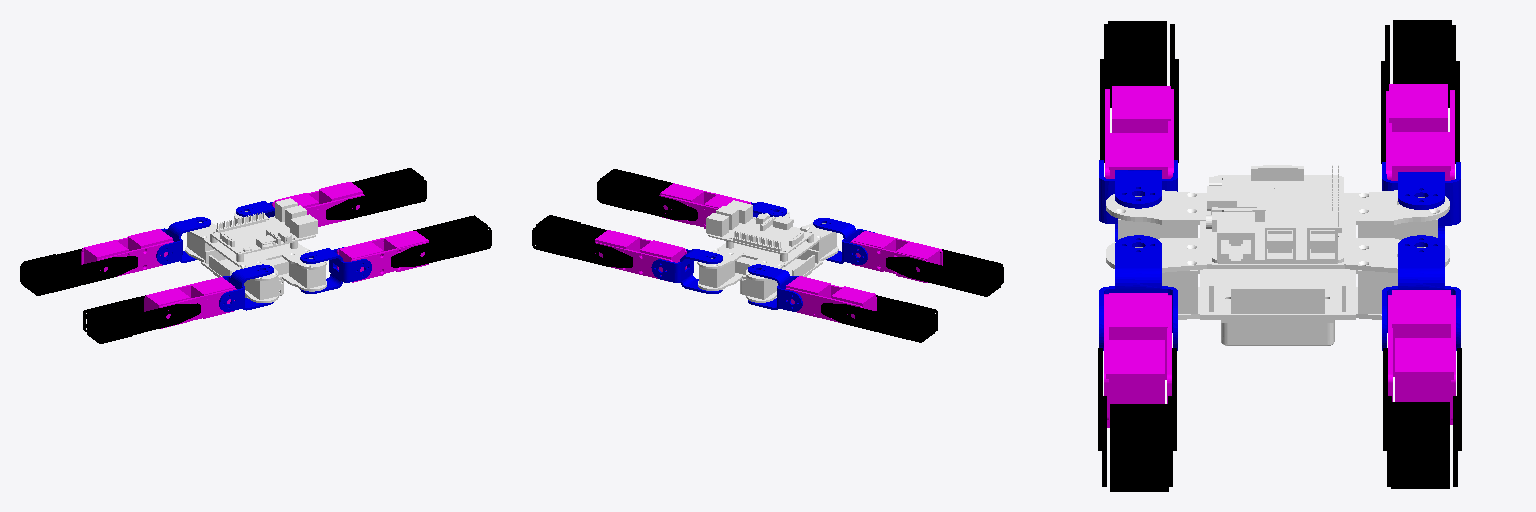
URDF robot description (ads-mt):
<?xml version="1.0" ?>
<robot name="ads-mt">

    <!-- Base Link -->
    <link name="body">
        <visual>
            <geometry>
                <mesh filename="package://adsmt_description/urdf/designs/body.stl" scale=" 0.01 0.01 0.01"/>
            </geometry>
            <material name = 'body'>
                <color rgba='1 1 1 1'/>
            </material>

            <collision>
                <geometry>
                    <mesh filename="package://adsmt_description/urdf/designs/body.stl" scale=" 0.01 0.01 0.01"/>
                </geometry>
            </collision>

        </visual>
    </link>

    <!-- Leg 1 -->
    <!-- Joints and Links -->
    <joint name="joint_1" type="revolute">
        <parent link="body"/>
        <child link="joint_1_link"/>
        <origin xyz="-0.265 -0.60 0.0" rpy="0 0 -1.5708"/>
        <axis xyz="0 0 1"/>
        <limit lower="-3.1415" upper="3.1415" effort="10" velocity="1.0"/>
    </joint>
    <link name="joint_1_link">
        <visual>
            <geometry>
                <mesh filename="package://adsmt_description/urdf/designs/double_u.stl" scale=" 0.01 0.01 0.01"/>

            </geometry>
                <material name = 'u joints 1'>
                    <color rgba='0 0 1 1'/>
                </material>

              <collision>
                <geometry>
                    <mesh filename="package://adsmt_description/urdf/designs/double_u.stl" scale=" 0.01 0.01 0.01"/>
                </geometry>
            </collision>
        </visual>
    </link>


    <!-- Thigh 1 -->
    <joint name="joint_1_1" type="revolute">
        <parent link="joint_1_link"/>
        <child link="joint_1_thigh"/>
        <origin xyz="-0.0 -0.46 0.0" rpy="3.1415 0 0"/>
        <axis xyz="1 0 0"/>
        <limit lower="-3.1415" upper="3.1415" effort="10" velocity="1.0"/>
    </joint>
    <link name="joint_1_thigh">
        <visual>
            <geometry>
                <mesh filename="package://adsmt_description/urdf/designs/thigh.stl" scale=" 0.01 0.01 0.01"/>

            </geometry>
                <material name = 'u joints t'>
                    <color rgba='1 0 1 1'/>
                </material>
            <collision>
                <geometry>
                    <mesh filename="package://adsmt_description/urdf/designs/thigh.stl" scale=" 0.01 0.01 0.01"/>
                </geometry>
            </collision>
        </visual>
    </link>

    <!-- Shin 1 -->
    <joint name="joint_1_1_1" type="revolute">
        <parent link="joint_1_thigh"/>
        <child link="joint_1_shin"/>
        <origin xyz="-0.0 0.65 0.0" rpy="3.1415 0 0"/>
        <axis xyz="1 0 0"/>
        <limit lower="-3.1415" upper="3.1415" effort="10" velocity="1.0"/>
    </joint>
    <link name="joint_1_shin">
        <visual>
            <geometry>
                <mesh filename="package://adsmt_description/urdf/designs/shin.stl" scale=" 0.01 0.01 0.01"/>

            </geometry>
                <material name = 'u joints 7'>
                    <color rgba='0 0 0 1'/>
                </material>
            <collision>
                <geometry>
                    <mesh filename="package://adsmt_description/urdf/designs/shin.stl" scale=" 0.01 0.01 0.01"/>
                </geometry>
            </collision>
        </visual>
    </link>

    <!-- /Leg 1 -->

    <!-- Leg 2 -->
    <joint name="joint_2" type="revolute">
        <parent link="body"/>
        <child link="joint_2_link"/>
        <origin xyz="-0.25 0.6 0.0" rpy="0 0 1.5708"/>
        <axis xyz="0 0 1"/>
        <limit lower="-3.1415" upper="3.1415" effort="10" velocity="1.0"/>
    </joint>
    <link name="joint_2_link">
        <visual>
            <geometry>
                <mesh filename="package://adsmt_description/urdf/designs/double_u_r.stl" scale=" 0.01 0.01 0.01"/>

            </geometry>

            <collision>
                <geometry>
                    <mesh filename="package://adsmt_description/urdf/designs/double_u_r.stl" scale=" 0.01 0.01 0.01"/>
                </geometry>
            </collision>

            <material name = 'u joints 2'>
                    <color rgba='0 0 1 1'/>
                </material>
        </visual>
    </link>

    <!-- Thigh 2 -->
    <joint name="joint_2_1" type="revolute">
        <parent link="joint_2_link"/>
        <child link="joint_2_thigh"/>
        <origin xyz="-0.0 0.46 0.0" rpy="0 0 0"/>
        <axis xyz="1 0 0"/>
        <limit lower="-3.1415" upper="3.1415" effort="10" velocity="1.0"/>
    </joint>
    <link name="joint_2_thigh">
        <visual>
            <geometry>
                <mesh filename="package://adsmt_description/urdf/designs/thigh.stl" scale=" 0.01 0.01 0.01"/>

            </geometry>
                <material name = 'u joints t'>
                    <color rgba='1 0 1 1'/>
                </material>
            <collision>
                <geometry>
                    <mesh filename="package://adsmt_description/urdf/designs/thigh.stl" scale=" 0.01 0.01 0.01"/>
                </geometry>
            </collision>
        </visual>
    </link>


    <!-- Shin 2 -->
    <joint name="joint_2_1_1" type="revolute">
        <parent link="joint_2_thigh"/>
        <child link="joint_2_shin"/>
        <origin xyz="-0.0 0.65 0.0" rpy="3.1415 0 0"/>
        <axis xyz="1 0 0"/>
        <limit lower="-3.1415" upper="3.1415" effort="10" velocity="1.0"/>
    </joint>
    <link name="joint_2_shin">
        <visual>
            <geometry>
                <mesh filename="package://adsmt_description/urdf/designs/shin.stl" scale=" 0.01 0.01 0.01"/>

            </geometry>
            <collision>
                <geometry>
                    <mesh filename="package://adsmt_description/urdf/designs/shin.stl" scale=" 0.01 0.01 0.01"/>
                </geometry>
            </collision>
                <material name = 'u joints 7'>
                    <color rgba='0 0 0 1'/>
                </material>
        </visual>
    </link>
    <!-- /Leg 2-->

    <!-- Leg 3 -->
    <joint name="joint_3" type="revolute">
        <parent link="body"/>
        <child link="joint_3_link"/>
        <origin xyz="0.25 -0.60 0.0" rpy="0 0 1.5708"/>
        <axis xyz="0 0 1"/>
        <limit lower="-3.1415" upper="3.1415" effort="10" velocity="1.0"/>
    </joint>
    <link name="joint_3_link">
        <visual>
            <geometry>
                <mesh filename="package://adsmt_description/urdf/designs/double_u.stl" scale=" 0.01 0.01 0.01"/>

            </geometry>
            <collision>
                <geometry>
                    <mesh filename="package://adsmt_description/urdf/designs/double_u.stl" scale=" 0.01 0.01 0.01"/>
                </geometry>
            </collision>
             <material name = 'u joints 3'>
                    <color rgba='0 0 1 1'/>
                </material>
        </visual>
    </link>

    <!-- Thigh 3 -->
    <joint name="joint_3_1" type="revolute">
        <parent link="joint_3_link"/>
        <child link="joint_3_thigh"/>
        <origin xyz="-0.0 -0.46 0.0" rpy="3.1415 0 0"/>
        <axis xyz="1 0 0"/>
        <limit lower="-3.1415" upper="3.1415" effort="10" velocity="1.0"/>
    </joint>
    <link name="joint_3_thigh">
        <visual>
            <geometry>
                <mesh filename="package://adsmt_description/urdf/designs/thigh.stl" scale=" 0.01 0.01 0.01"/>

            </geometry>
            <collision>
                <geometry>
                    <mesh filename="package://adsmt_description/urdf/designs/thigh.stl" scale=" 0.01 0.01 0.01"/>
                </geometry>
            </collision>
                <material name = 'u joints t'>
                    <color rgba='1 0 1 1'/>
                </material>
        </visual>
    </link>


    <!-- Shin 3 -->
    <joint name="joint_3_1_1" type="revolute">
        <parent link="joint_3_thigh"/>
        <child link="joint_3_shin"/>
        <origin xyz="-0.0 0.65 0.0" rpy="3.1415 0 0"/>
        <axis xyz="1 0 0"/>
        <limit lower="-3.1415" upper="3.1415" effort="10" velocity="1.0"/>
    </joint>
    <link name="joint_3_shin">
        <visual>
            <geometry>
                <mesh filename="package://adsmt_description/urdf/designs/shin.stl" scale=" 0.01 0.01 0.01"/>

            </geometry>
            <collision>
                <geometry>
                    <mesh filename="package://adsmt_description/urdf/designs/shin.stl" scale=" 0.01 0.01 0.01"/>
                </geometry>
            </collision>
                <material name = 'u joints 7'>
                    <color rgba='0 0 0 1'/>
                </material>
        </visual>
    </link>
    <!-- /Leg 3-->

    <!-- Leg 4 -->
    <joint name="joint_4" type="revolute">
        <parent link="body"/>
        <child link="joint_4_link"/>
        <origin xyz="0.25 0.6 0.0" rpy="0 0 -1.5708"/>
        <axis xyz="0 0 1"/>
        <limit lower="-3.1415" upper="3.1415" effort="10" velocity="1.0"/>
    </joint>
    <link name="joint_4_link">
        <visual>
            <geometry>
                <mesh filename="package://adsmt_description/urdf/designs/double_u_r.stl" scale=" 0.01 0.01 0.01"/>

            </geometry>
            <collision>
                <geometry>
                    <mesh filename="package://adsmt_description/urdf/designs/double_u_r.stl" scale=" 0.01 0.01 0.01"/>
                </geometry>
            </collision>
            <material name = 'u joints 4'>
                    <color rgba='0 0 1 1'/>
                </material>
        </visual>
    </link>

    <!-- Thigh 4 -->
    <joint name="joint_4_1" type="revolute">
        <parent link="joint_4_link"/>
        <child link="joint_4_thigh"/>
        <origin xyz="-0.0 0.46 0.0" rpy="0 0 0"/>
        <axis xyz="1 0 0"/>
        <limit lower="-3.1415" upper="3.1415" effort="10" velocity="1.0"/>
    </joint>
    <link name="joint_4_thigh">
        <visual>
            <geometry>
                <mesh filename="package://adsmt_description/urdf/designs/thigh.stl" scale=" 0.01 0.01 0.01"/>

            </geometry>
            <collision>
                <geometry>
                    <mesh filename="package://adsmt_description/urdf/designs/thigh.stl" scale=" 0.01 0.01 0.01"/>
                </geometry>
            </collision>
                <material name = 'u joints t'>
                    <color rgba='1 0 1 1'/>
                </material>
        </visual>
    </link>


    <!-- Shin 4 -->
    <joint name="joint_4_1_1" type="revolute">
        <parent link="joint_4_thigh"/>
        <child link="joint_4_shin"/>
        <origin xyz="-0.0 0.65 0.0" rpy="3.1415 0 0"/>
        <axis xyz="1 0 0"/>
        <limit lower="-3.1415" upper="3.1415" effort="10" velocity="1.0"/>
    </joint>
    <link name="joint_4_shin">
        <visual>
            <geometry>
                <mesh filename="package://adsmt_description/urdf/designs/shin.stl" scale=" 0.01 0.01 0.01"/>

            </geometry>
            <collision>
                <geometry>
                    <mesh filename="package://adsmt_description/urdf/designs/shin.stl" scale=" 0.01 0.01 0.01"/>
                </geometry>
            </collision>
                <material name = 'u joints 7'>
                    <color rgba='0 0 0 1'/>
                </material>
        </visual>
    </link>
    <!-- /Leg 4 -->
</robot>

--- What the picture shows (computed from the rendered views, not written in the file) ---
The picture shows the robot from 3 angles, left to right: view 1: azimuth 30°, elevation 25°; view 2: azimuth 150°, elevation 25°; view 3: azimuth 270°, elevation 25°; orthographic projection.
Robot: ads-mt — 13 links, 12 joints (12 revolute); root link body; default pose: every joint at zero.
Links seen in each view (by area): view 1: body, joint_2_shin, joint_1_shin, joint_3_shin, joint_4_shin, joint_2_thigh, joint_1_thigh, joint_3_thigh, joint_4_thigh, joint_3_link, joint_1_link, joint_2_link; view 2: body, joint_1_shin, joint_2_shin, joint_4_shin, joint_3_shin, joint_2_thigh, joint_1_thigh, joint_4_thigh, joint_4_link, joint_3_thigh, joint_2_link, joint_1_link; view 3: body, joint_4_thigh, joint_3_thigh, joint_3_shin, joint_4_shin, joint_2_thigh, joint_1_thigh, joint_1_shin, joint_2_shin, joint_3_link, joint_4_link, joint_2_link (+1 smaller).
Boxes of the visible links, left/top/right/bottom form: body: left=185, top=198, right=326, bottom=302; joint_2_shin: left=20, top=248, right=137, bottom=295; joint_1_shin: left=83, top=295, right=200, bottom=343; joint_3_shin: left=391, top=215, right=491, bottom=267; joint_4_shin: left=326, top=168, right=426, bottom=219; joint_2_thigh: left=81, top=229, right=173, bottom=276; joint_1_thigh: left=144, top=277, right=236, bottom=328; joint_3_thigh: left=337, top=231, right=428, bottom=282; joint_4_thigh: left=272, top=182, right=364, bottom=226; joint_3_link: left=300, top=247, right=371, bottom=293; joint_1_link: left=219, top=264, right=273, bottom=311; joint_2_link: left=156, top=217, right=210, bottom=264; body: left=697, top=200, right=838, bottom=302; joint_1_shin: left=886, top=249, right=1003, bottom=296; joint_2_shin: left=821, top=295, right=937, bottom=342; joint_4_shin: left=532, top=215, right=632, bottom=267; joint_3_shin: left=597, top=169, right=697, bottom=220; joint_2_thigh: left=785, top=276, right=876, bottom=322; joint_1_thigh: left=850, top=231, right=942, bottom=282; joint_4_thigh: left=595, top=230, right=686, bottom=281; joint_4_link: left=651, top=249, right=722, bottom=293; joint_3_thigh: left=659, top=183, right=751, bottom=228; joint_2_link: left=748, top=264, right=802, bottom=311; joint_1_link: left=813, top=218, right=874, bottom=264; body: left=1106, top=165, right=1449, bottom=345; joint_4_thigh: left=1388, top=290, right=1455, bottom=424; joint_3_thigh: left=1104, top=293, right=1171, bottom=427; joint_3_shin: left=1098, top=348, right=1176, bottom=491; joint_4_shin: left=1383, top=348, right=1461, bottom=488; joint_2_thigh: left=1386, top=84, right=1454, bottom=180; joint_1_thigh: left=1105, top=86, right=1173, bottom=178; joint_1_shin: left=1100, top=21, right=1178, bottom=162; joint_2_shin: left=1381, top=20, right=1459, bottom=163; joint_3_link: left=1099, top=235, right=1177, bottom=350; joint_4_link: left=1382, top=235, right=1460, bottom=350; joint_2_link: left=1382, top=162, right=1460, bottom=242.
Bounding box of the posed robot: 4.22 × 1.54 × 0.72 m (x, y, z).
13 mesh visuals loaded from 5 distinct referenced files (5 binary STL).
